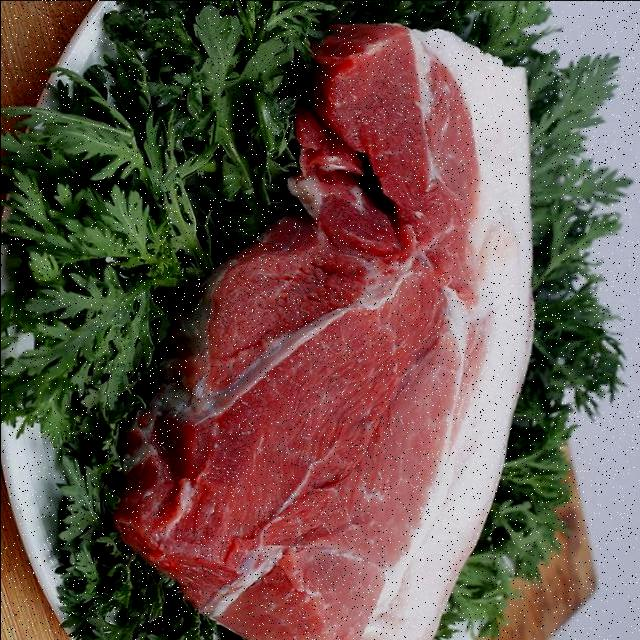pork: (112, 20, 553, 631)
